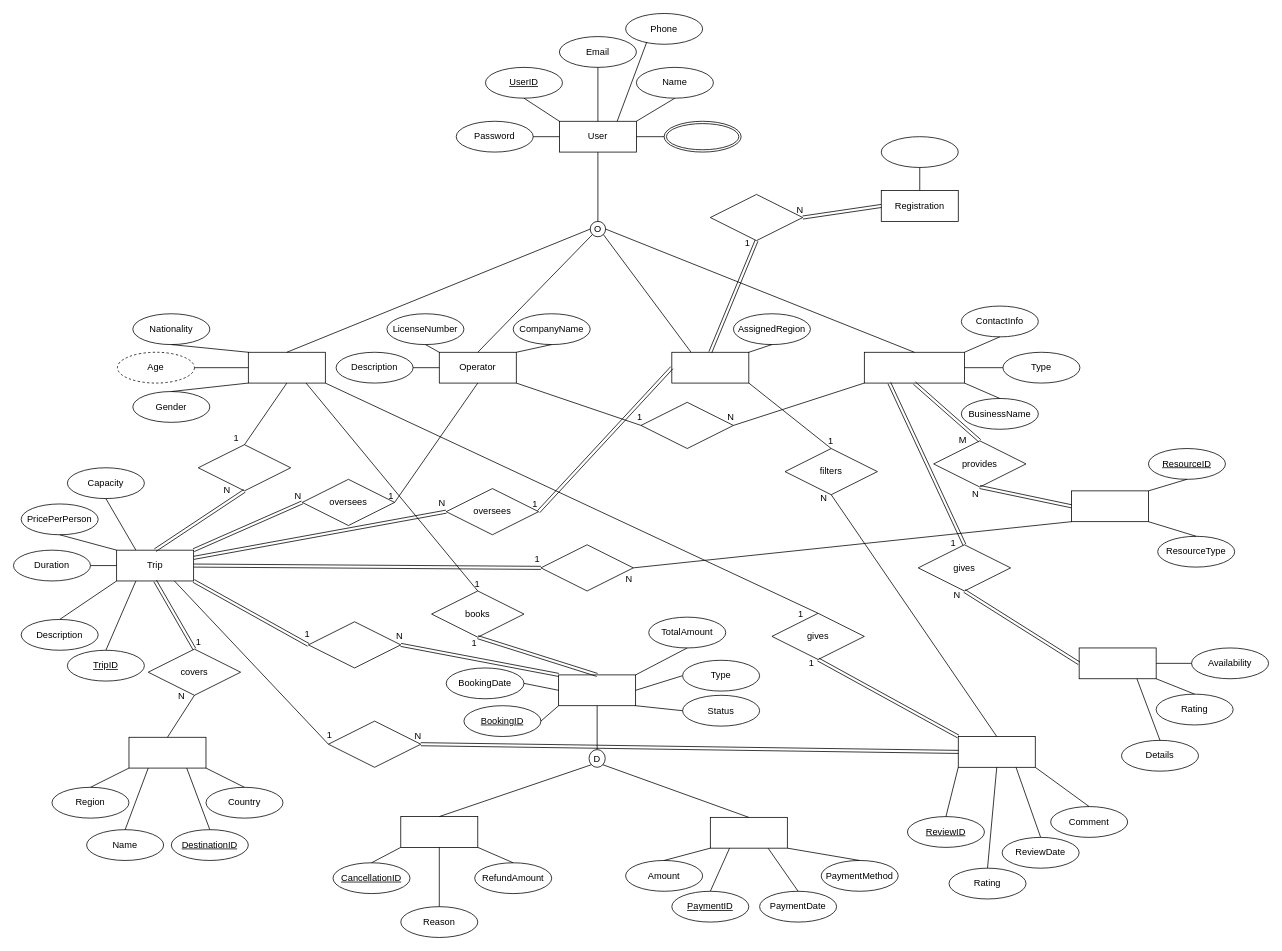
Some shapes in this 1282 by 951 pixel diagram are drawn without their labels. The shapes that lost their labels are listed below. From the top down, each one's centre as x and y in pixels, then its label:
At [702,136]: "Role".
At [919,151]: "RegistrationID".
At [756,217]: "approves".
At [286,367]: "Travel er".
At [710,367]: "Admin".
At [914,367]: "ServiceProvider".
At [686,425]: "has contract with".
At [244,467]: "takes".
At [1109,506]: "TripResource".
At [586,567]: "utilizes".
At [354,644]: "includes".
At [1117,663]: "ResourceProfile".
At [597,690]: "Booking".
At [167,752]: "Destination".
At [374,743]: "receives".
At [996,751]: "Review".
At [439,831]: "Cancelled".
At [748,832]: "Paid".
